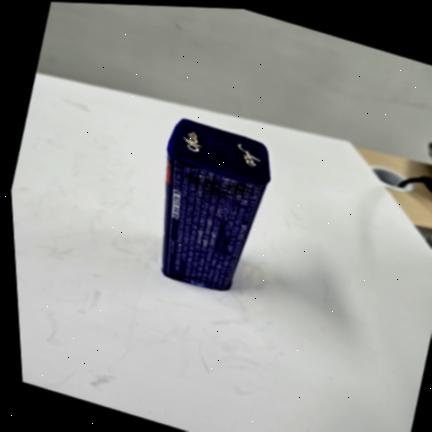cracker_ace: (162, 118, 269, 289)
